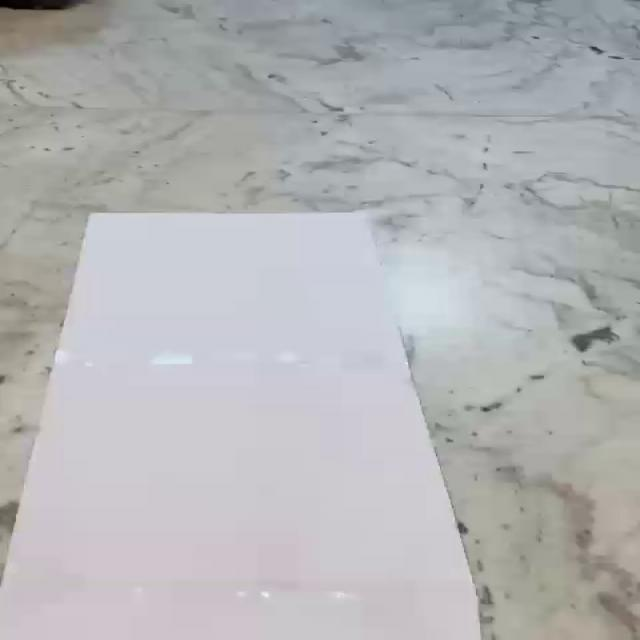road: (0, 213, 485, 640)
